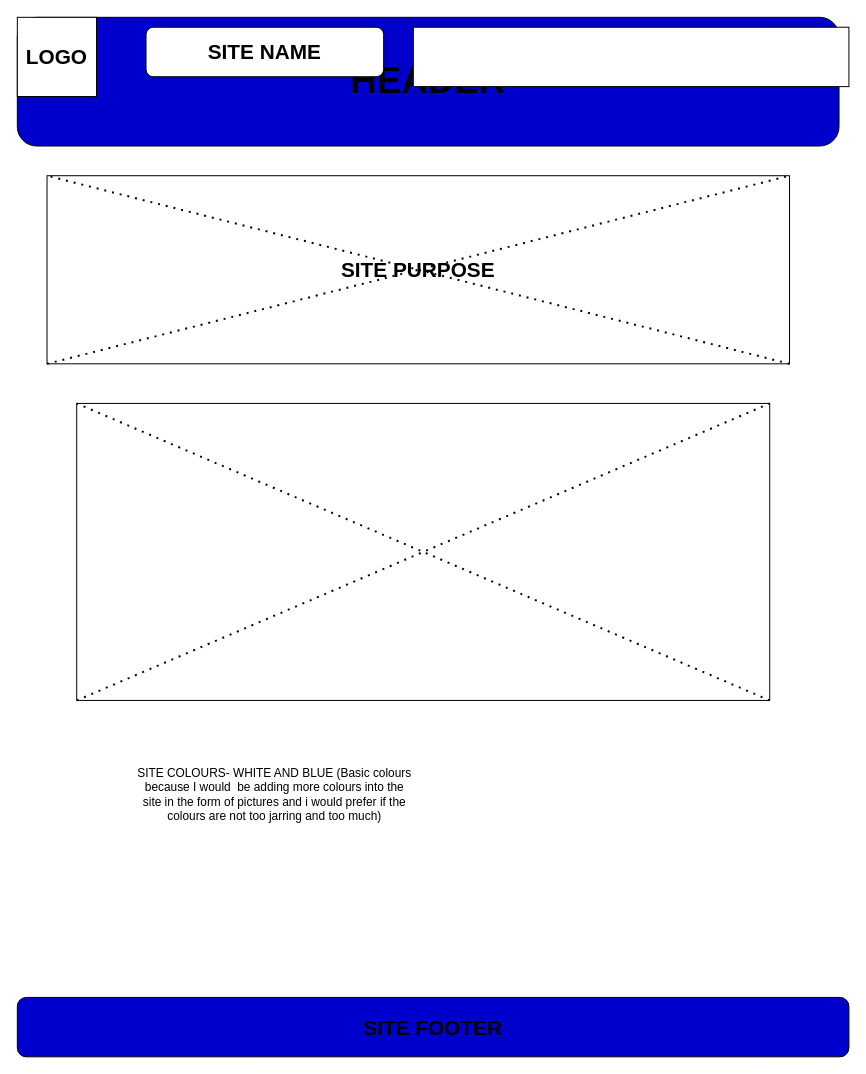
Some shapes in this 866 by 1074 pixel diagram are drawn without their labels. The shapes that lost their labels are listed below. From the top down, each one's centre as x and y in pixels, then its label:
At (630,56): "NAV LINKS".
At (423,551): "SCENARIOS - FEATURED PROGRAMS".
